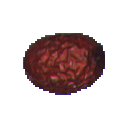gd: (19, 23, 123, 117)
